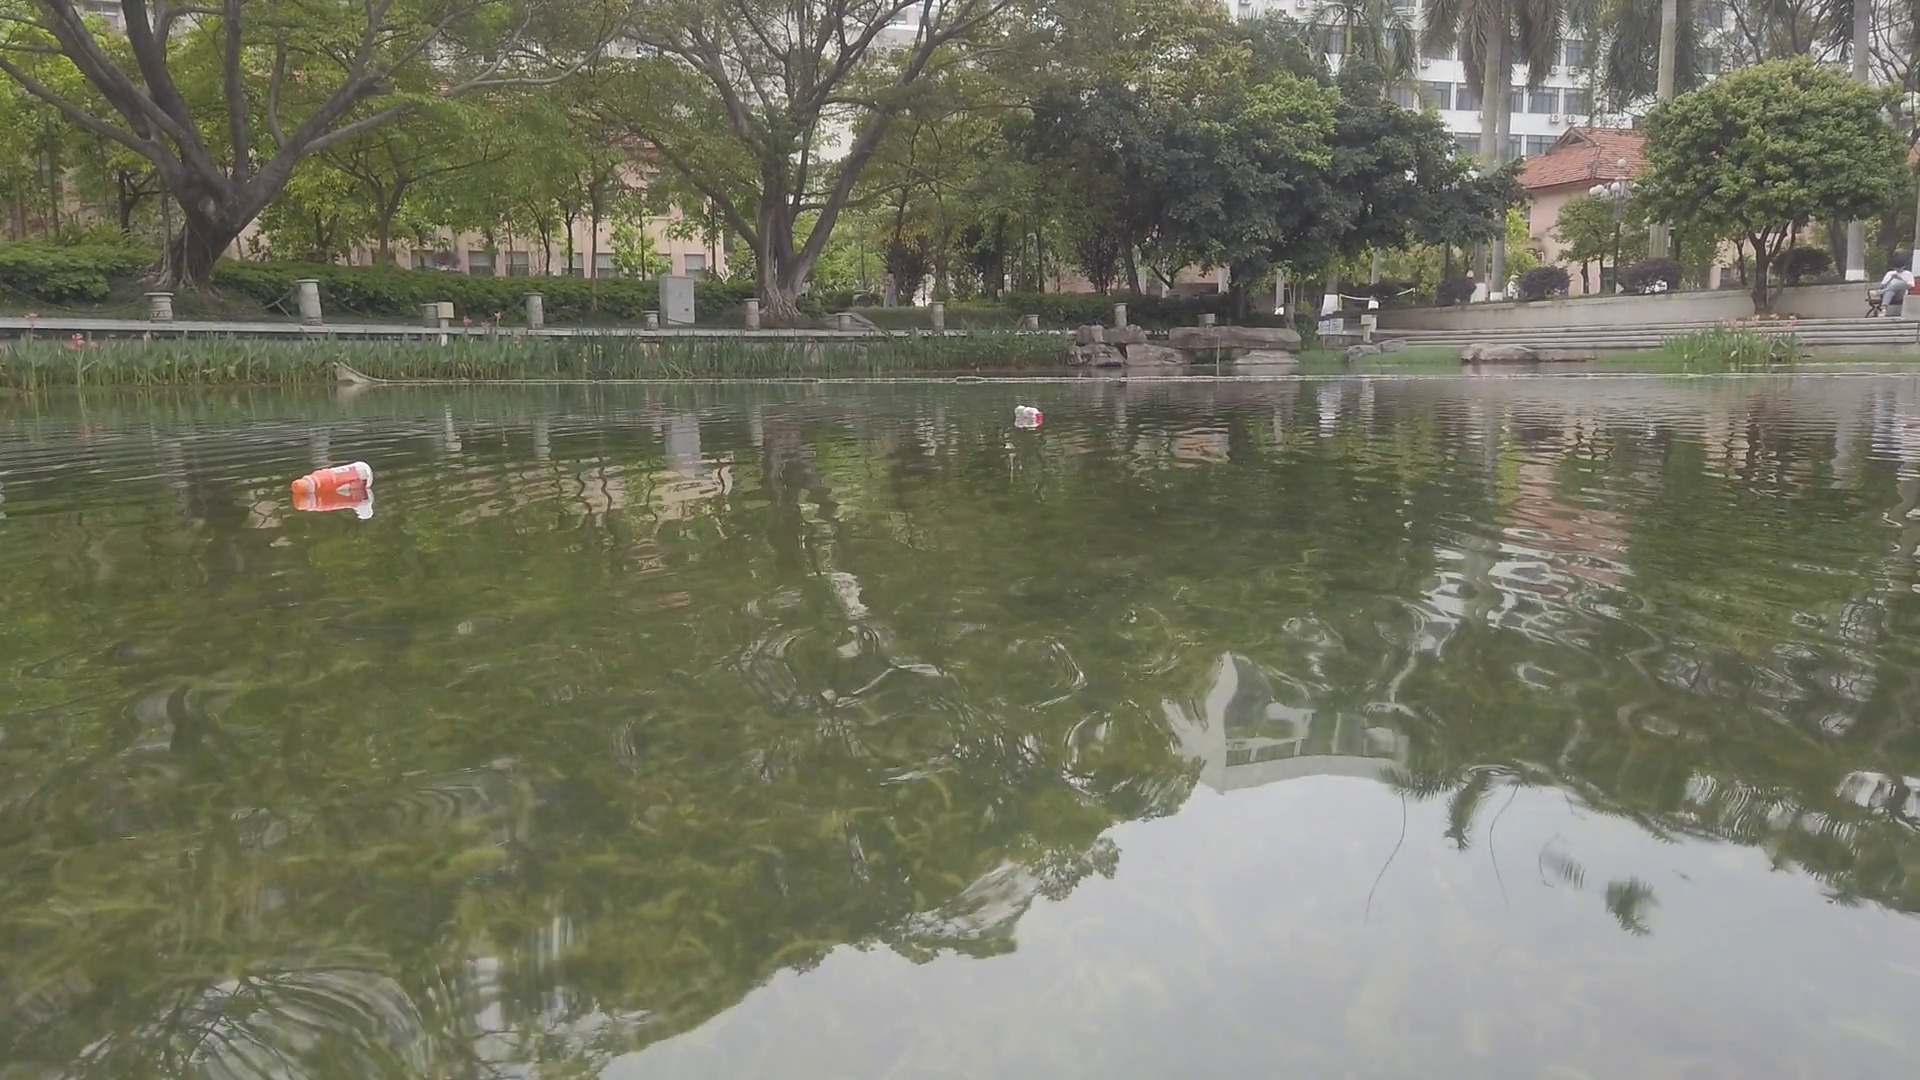bottle: (290, 459, 372, 493), (1014, 404, 1052, 425)
